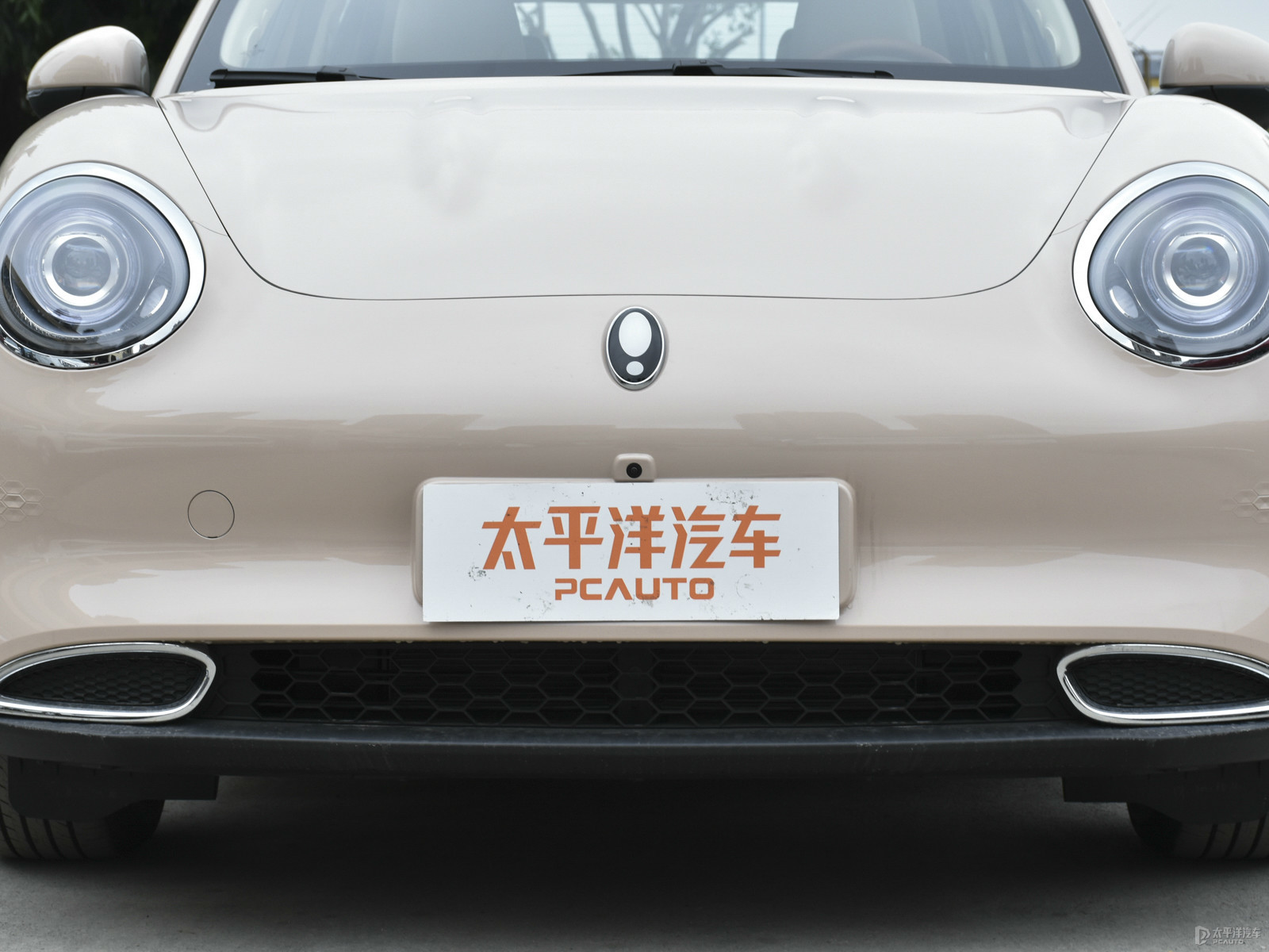ORA: (607, 307, 664, 388)
